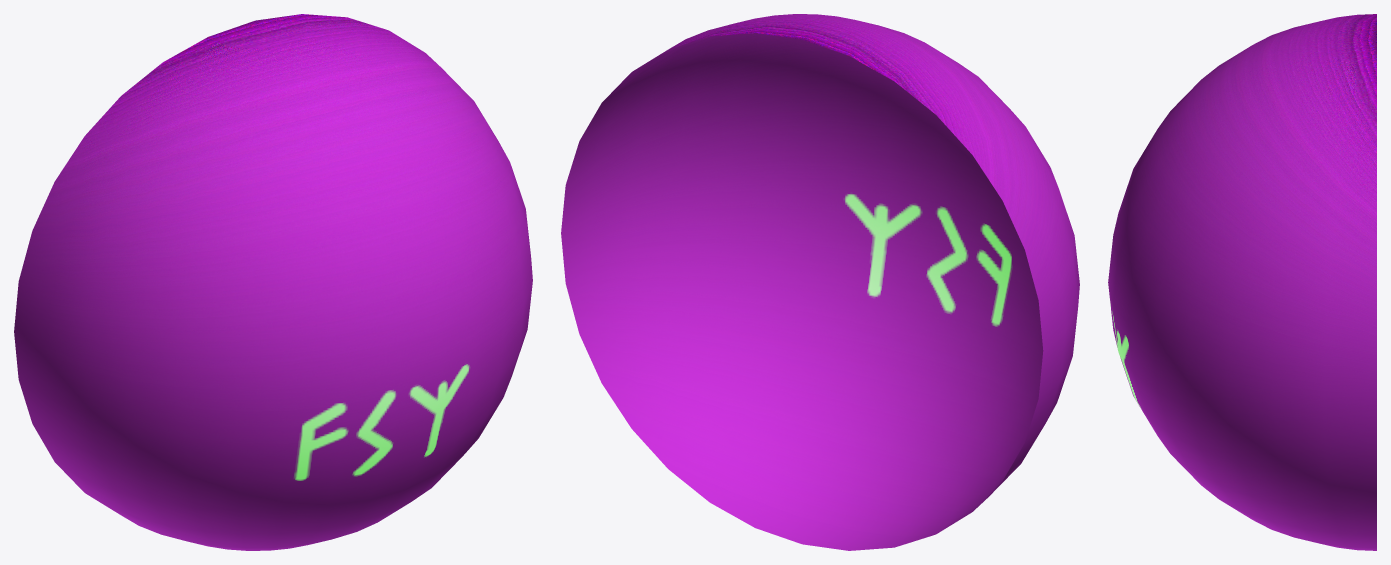
File: BarrierWindow.fbx
3 renders of one model, left to right at view 1: azimuth 30°, elevation 25°; view 2: azimuth 150°, elevation 25°; view 3: azimuth 270°, elevation 25°, orthographic. The views are drawn at different scales.
Visible parts, largest first — view 1: BarrierWindow; view 2: BarrierWindow; view 3: BarrierWindow.
Part boxes in pixels (x1,y1,x2,y2): BarrierWindow: (14,14,532,550); BarrierWindow: (561,14,1079,550); BarrierWindow: (1108,14,1376,550).
Size of the model in its own units: 200 by 200 by 100.
1 material, 1 textured.
